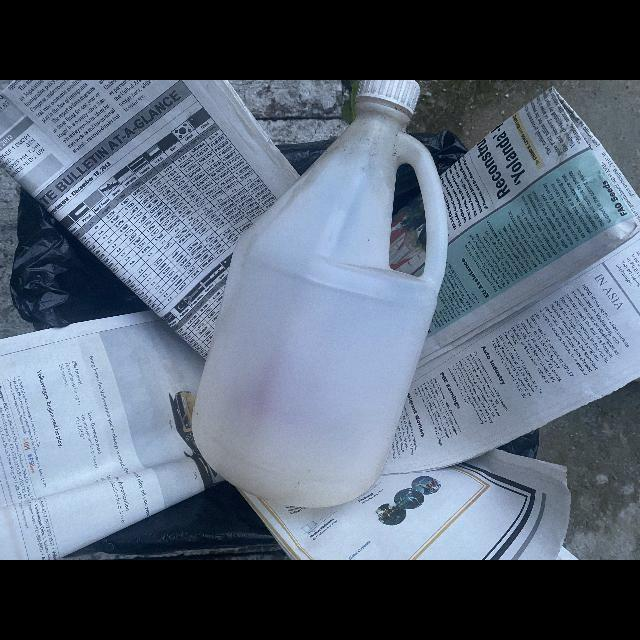paper: (384, 89, 640, 476), (0, 80, 300, 358), (0, 311, 223, 560), (240, 450, 571, 560)
plastic_container: (191, 80, 448, 510)
